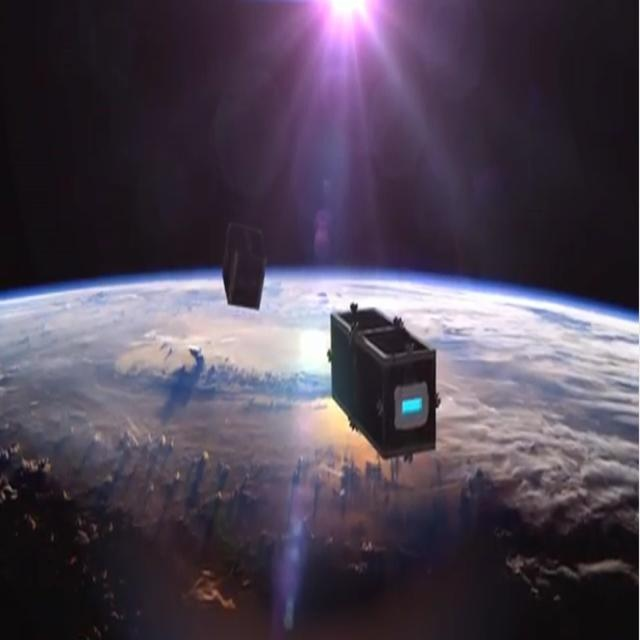large_debris: (213, 212, 271, 316)
medium_debris: (317, 279, 455, 476)
